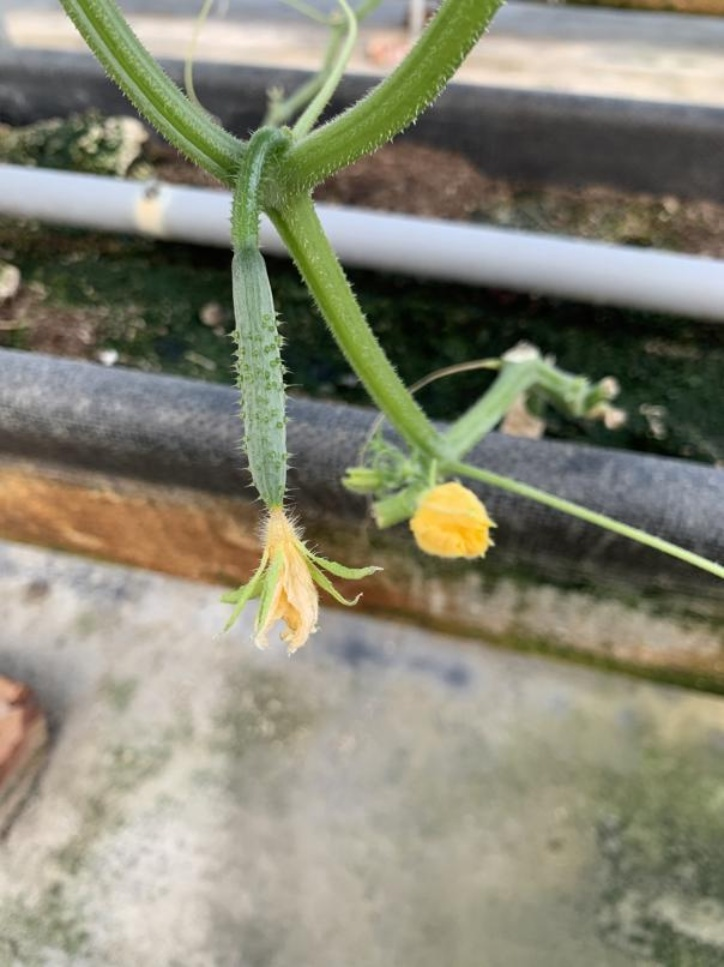bear: (192, 235, 376, 662)
bud: (404, 467, 499, 560)
